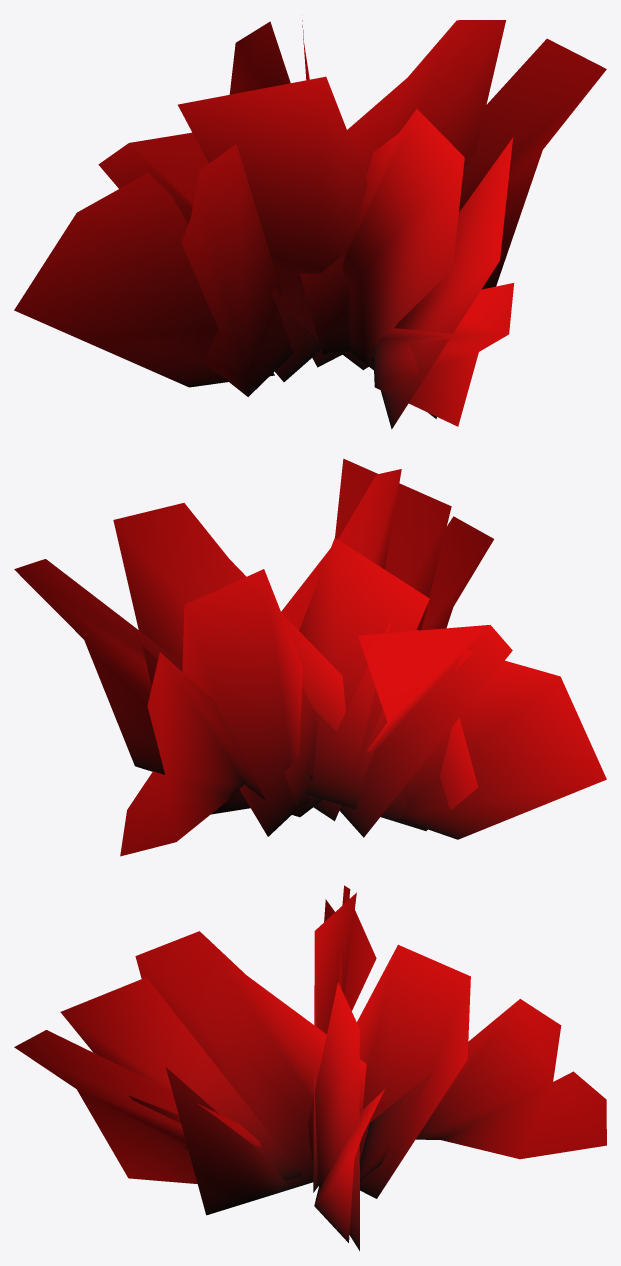
The model's file is SM_Shrub_01_LOD3.FBX.
The picture shows the model from 3 angles, top to bottom: view 1: azimuth 30°, elevation 25°; view 2: azimuth 150°, elevation 25°; view 3: azimuth 270°, elevation 25°; orthographic projection. The views are drawn at different scales.
Parts seen in each view (by area): view 1: SM_Shrub_01_LOD3; view 2: SM_Shrub_01_LOD3; view 3: SM_Shrub_01_LOD3.
Part boxes in pixels (x1=…): SM_Shrub_01_LOD3: x1=14, y1=20, x2=606, y2=429; SM_Shrub_01_LOD3: x1=14, y1=458, x2=606, y2=856; SM_Shrub_01_LOD3: x1=14, y1=885, x2=606, y2=1250.
Size of the model in its own units: 82.63 by 81.35 by 42.22.
